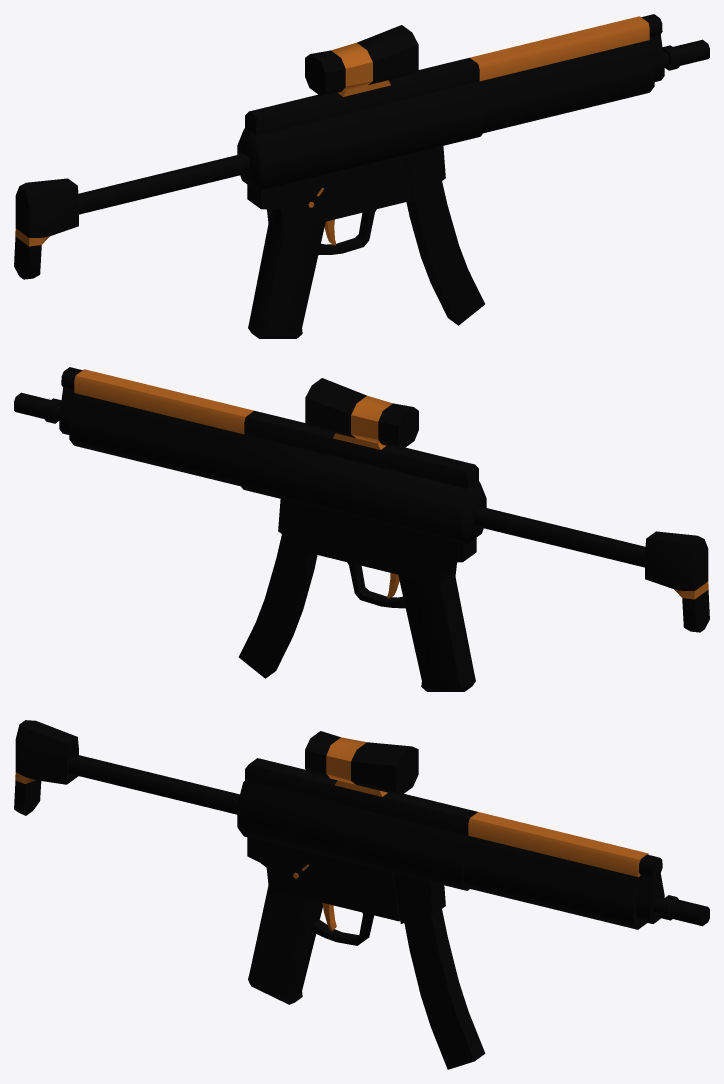
Rendered from SMG_V1.0.fbx.
3 views of the same model, one above another, from view 1: azimuth 30°, elevation 25°; view 2: azimuth 150°, elevation 25°; view 3: azimuth 330°, elevation 25° (orthographic).
Visible parts, largest first — view 1: SMG; view 2: SMG; view 3: SMG.
Boxes of the visible parts, <box> form: SMG: <box>14,14,709,338</box>; SMG: <box>14,367,709,691</box>; SMG: <box>14,720,709,1069</box>.
Size of the model in its own units: 49.99 by 21.25 by 2.99.
